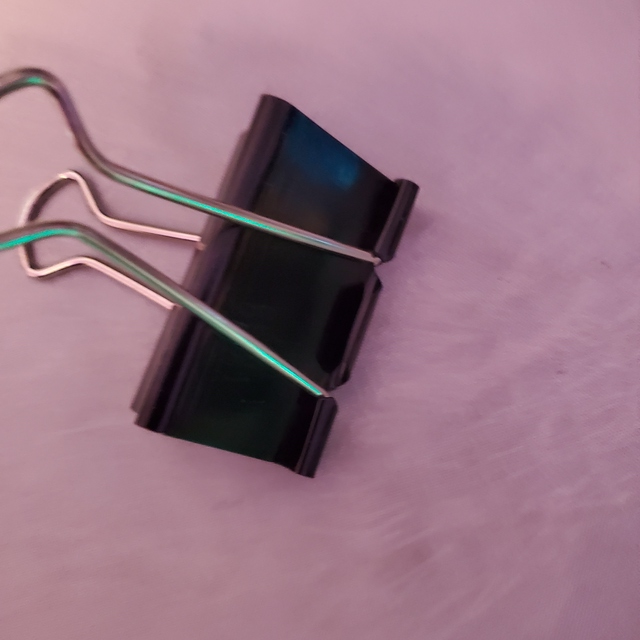clip: (1, 44, 427, 479)
